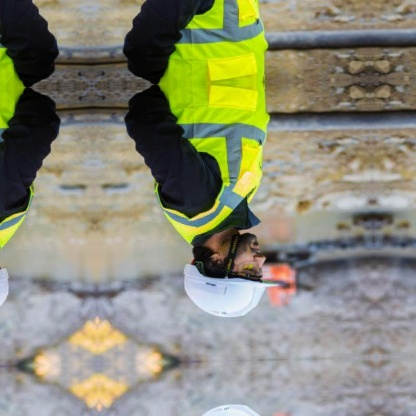vest: (149, 83, 277, 237)
white: (181, 258, 284, 322)
